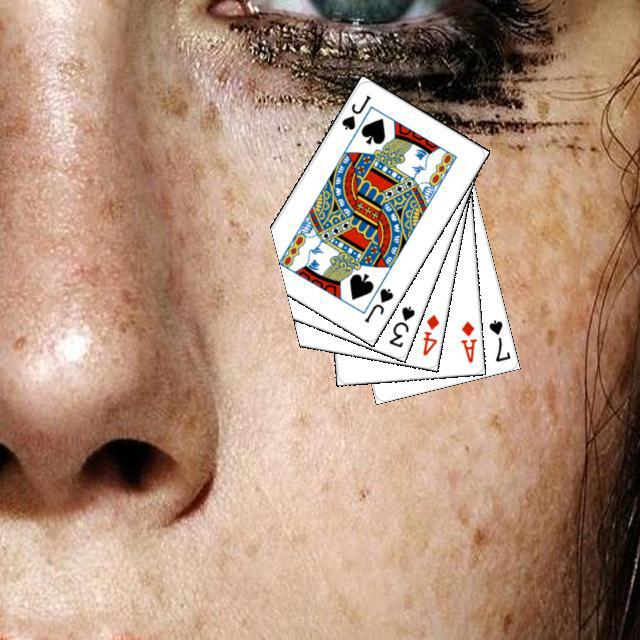3s: (384, 301, 417, 349)
4d: (418, 309, 441, 357)
7s: (484, 315, 512, 363)
Ad: (456, 316, 478, 364)
Js: (336, 90, 373, 132), (359, 283, 395, 324)
